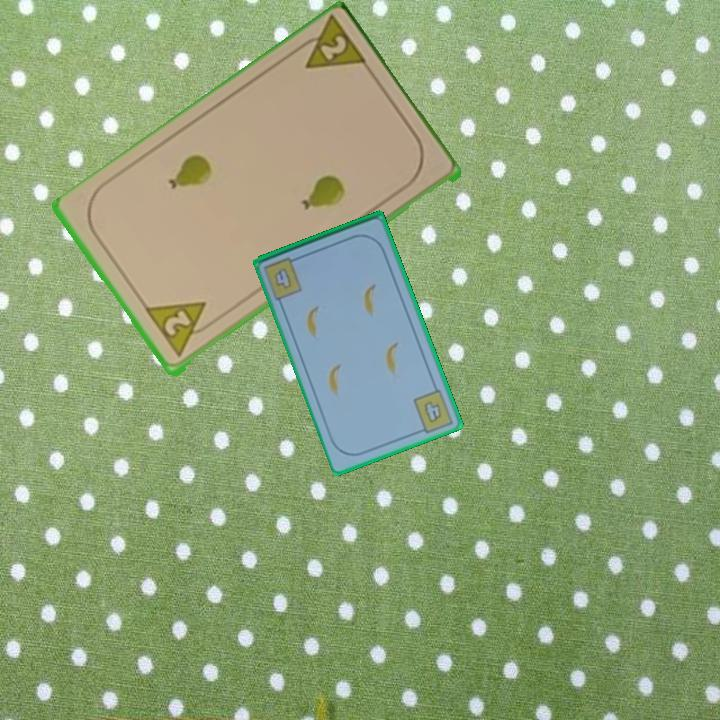2p: (142, 298, 219, 362), (289, 14, 371, 73)
4b: (410, 385, 454, 437), (271, 264, 295, 293)
